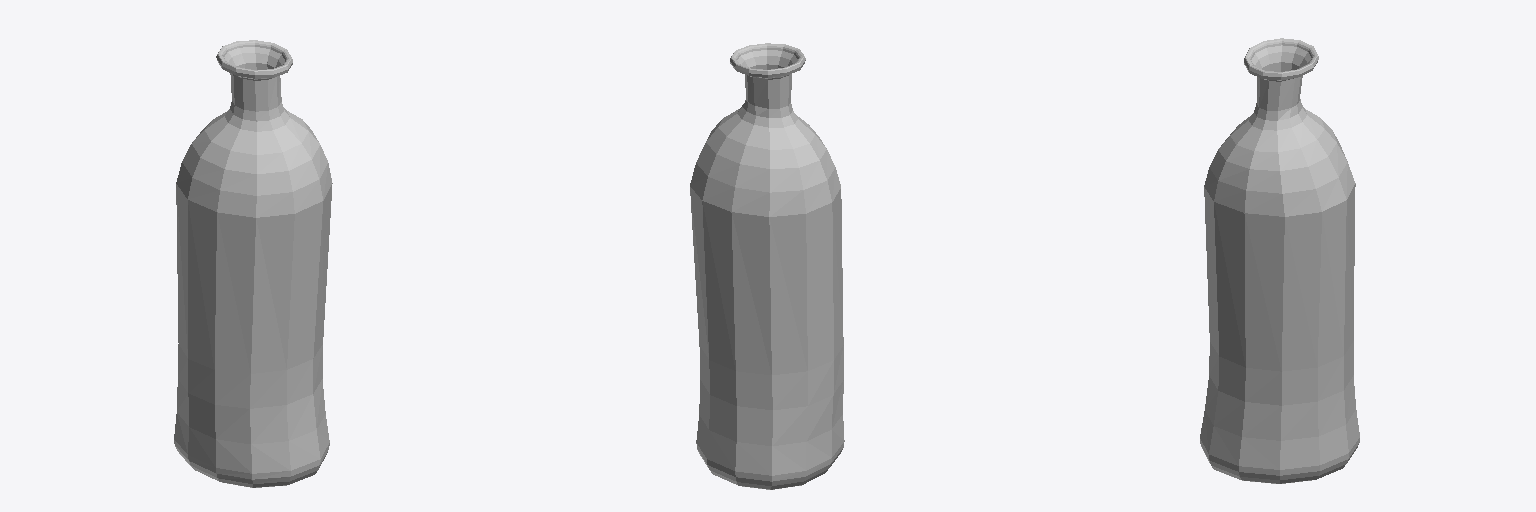
Rendered from uploads_files_2524341_Glass_Bottle_OBJ.obj.
3 renders of one model, left to right at view 1: azimuth 30°, elevation 25°; view 2: azimuth 150°, elevation 25°; view 3: azimuth 270°, elevation 25°, orthographic.
Visible parts, largest first — view 1: BottleWarped; view 2: BottleWarped; view 3: BottleWarped.
Boxes of the visible parts, <box> form: BottleWarped: <box>174,40,332,487</box>; BottleWarped: <box>690,43,844,489</box>; BottleWarped: <box>1200,38,1359,483</box>.
Bounding box in the file's own units: 10.51 × 30.32 × 10.9.